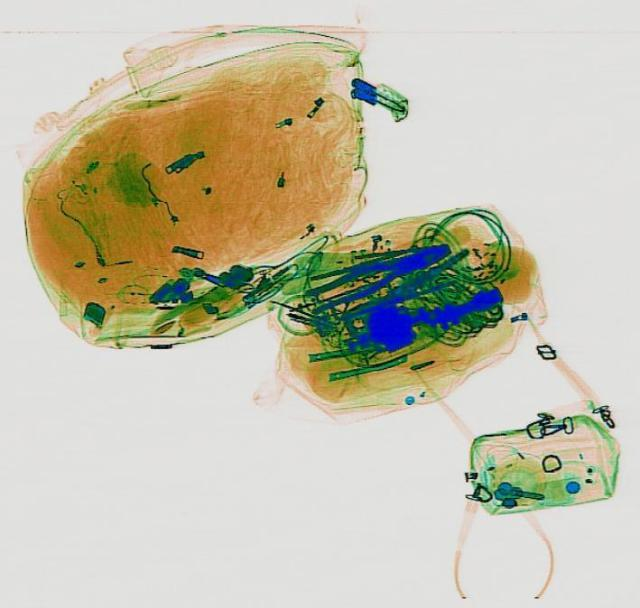Pliers: (299, 234, 457, 314)
